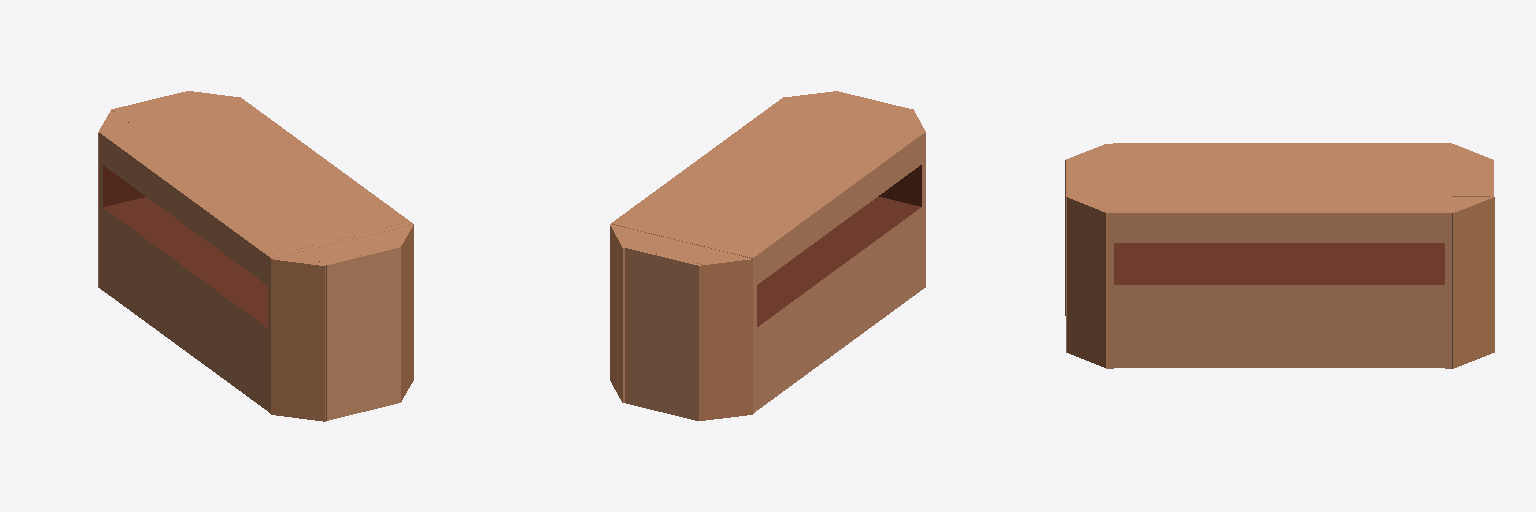
3 views of the same model, side by side, from view 1: azimuth 30°, elevation 25°; view 2: azimuth 150°, elevation 25°; view 3: azimuth 270°, elevation 25° (orthographic).
Parts seen in each view (by area): view 1: group16_pasted__group15_pasted__pasted__group14_pasted__pasted__; view 2: group16_pasted__group15_pasted__pasted__group14_pasted__pasted__; view 3: group16_pasted__group15_pasted__pasted__group14_pasted__pasted__.
Part boxes in pixels (left/top/right/bottom): group16_pasted__group15_pasted__pasted__group14_pasted__pasted__: left=98, top=91, right=413, bottom=421; group16_pasted__group15_pasted__pasted__group14_pasted__pasted__: left=610, top=91, right=925, bottom=420; group16_pasted__group15_pasted__pasted__group14_pasted__pasted__: left=1065, top=143, right=1494, bottom=368.
Size of the model in its own units: 0.8679 by 0.9023 by 2.25.
4 materials, 4 textured.